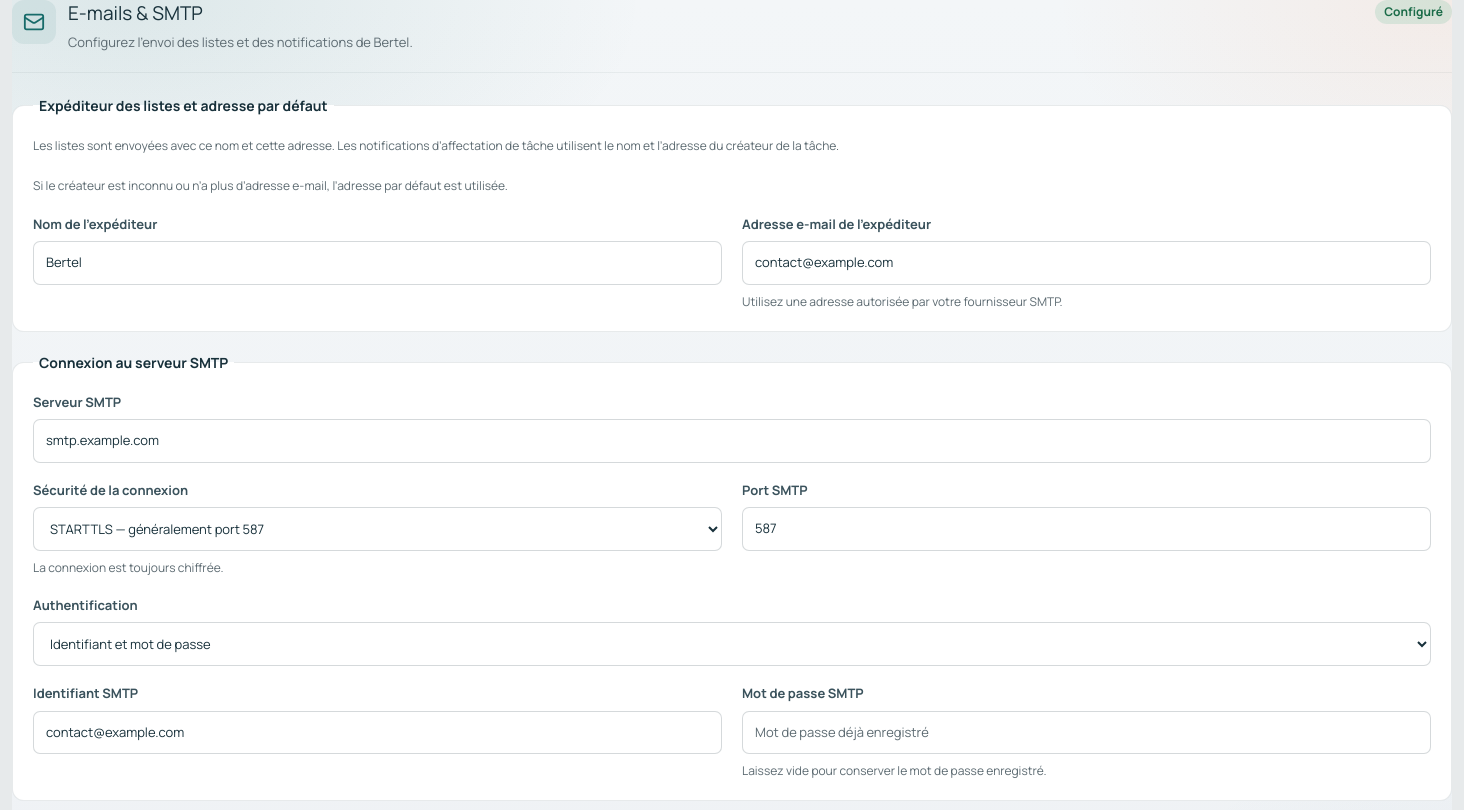
Test: conserve un mot de passe enregistré sans le relire et ne teste pas un formulaire modifié
This screenshot has width=1464, height=810.
Expected: the field showing "smtp.example.com" is shown, [33, 420, 1431, 463]
Expected: the password field labelled "Mot de passe SMTP" is empty, [742, 711, 1431, 754]
Replace the text in the field labelled "Nom de l’expéditeur" with "Office de tourisme": (378, 263) [33, 241, 722, 285]
(page scrolled)
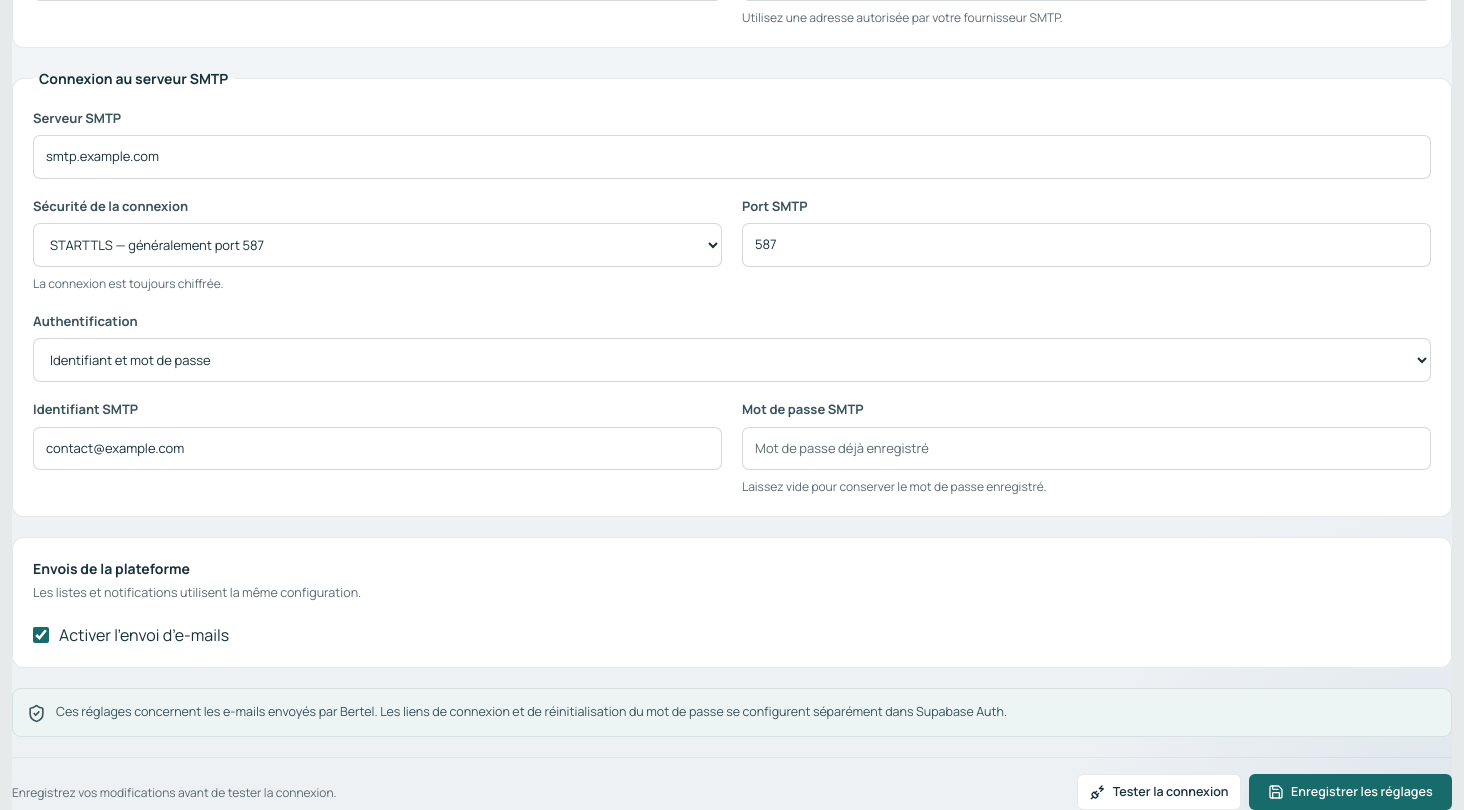
Expected: the button "Tester la connexion" is disabled, [1078, 774, 1241, 809]
Click the button "Enregistrer les réglages": (1350, 792) [1249, 774, 1452, 809]
(page scrolled)
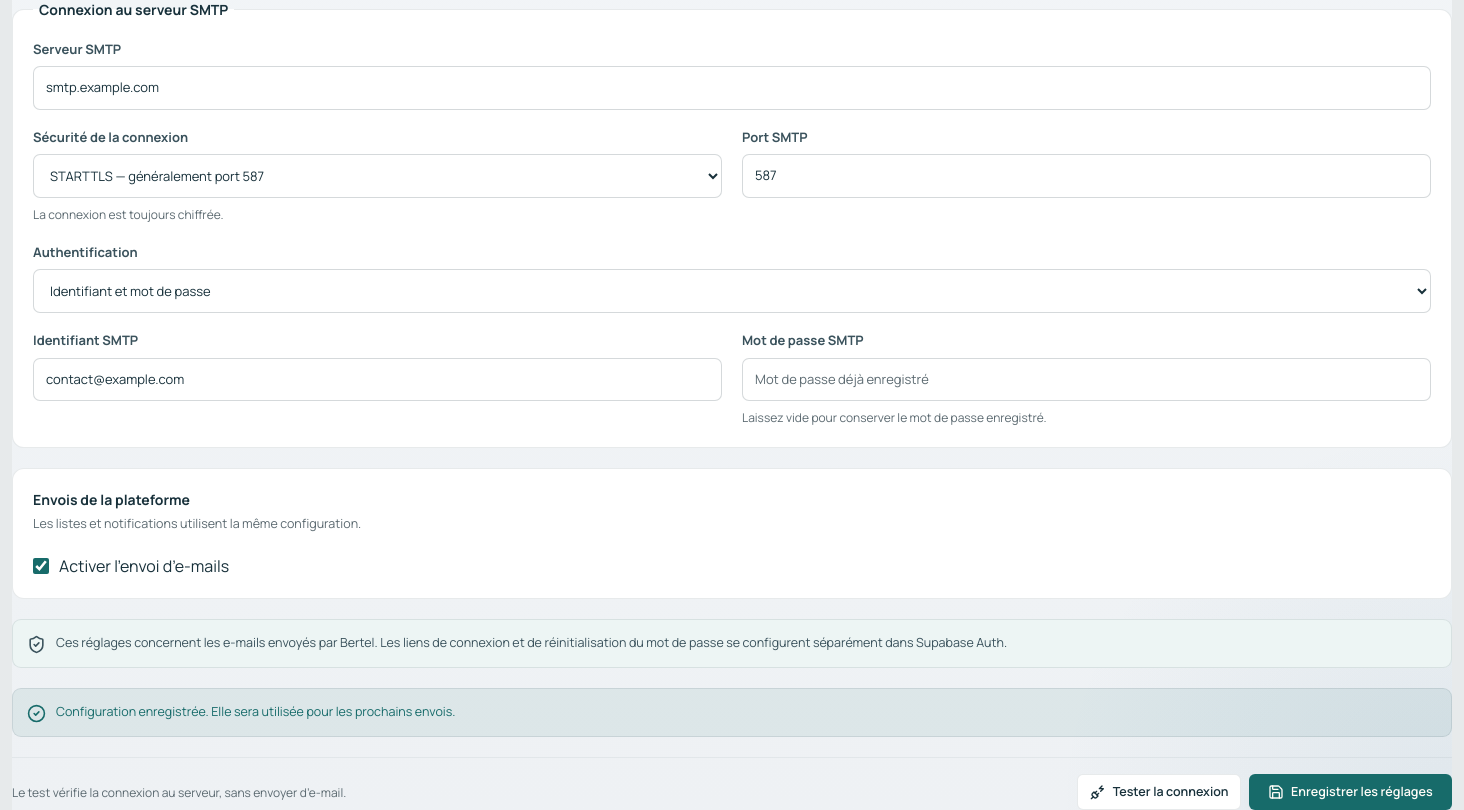
Click the button "Tester la connexion": (1159, 792) [1078, 774, 1241, 809]
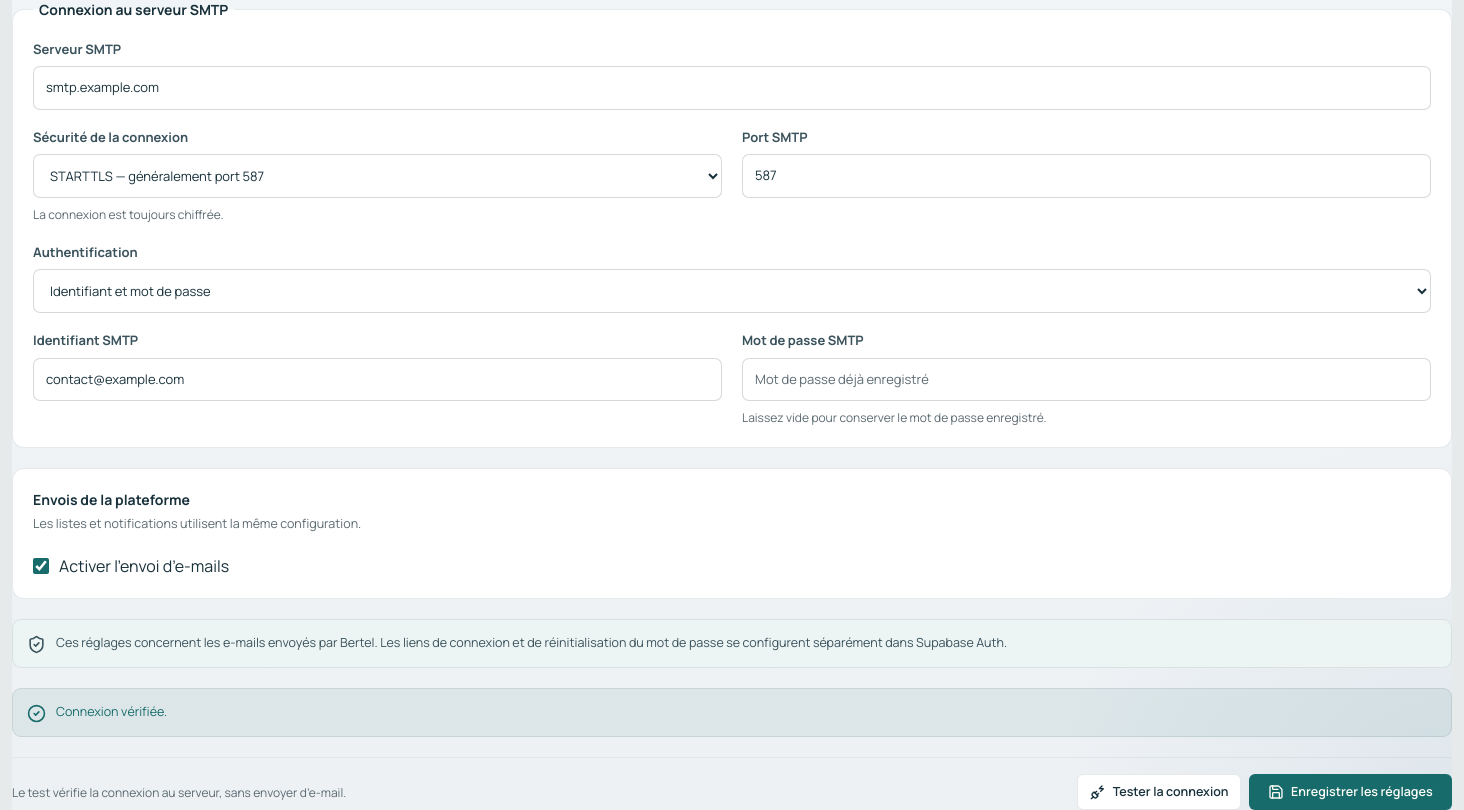
Expected: the text "Connexion vérifiée." is shown, [56, 703, 167, 720]
